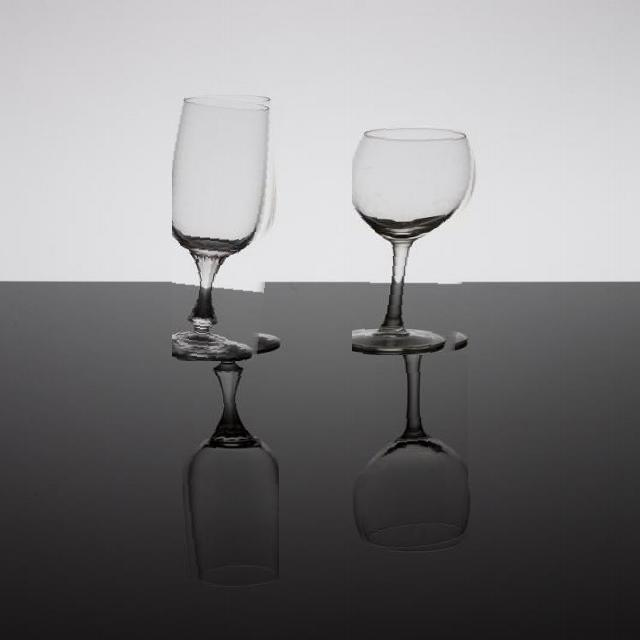Glass: (172, 91, 285, 362), (352, 125, 478, 356), (179, 363, 279, 585), (358, 355, 468, 553)
